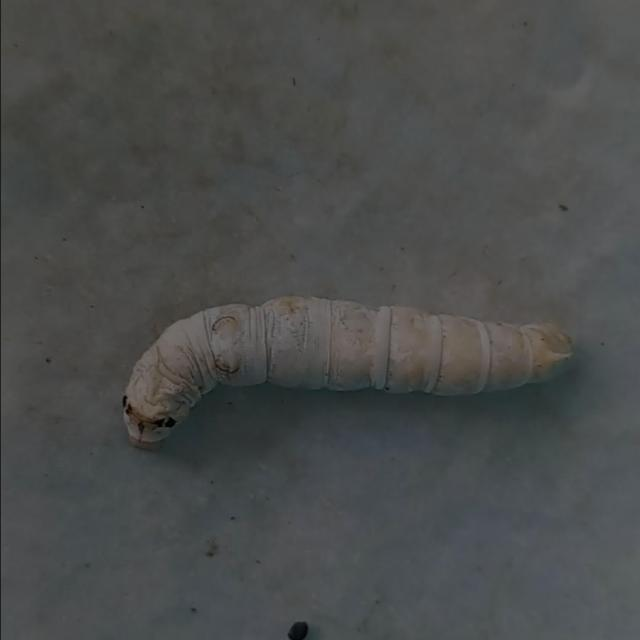Grasserie: (95, 273, 596, 465)
